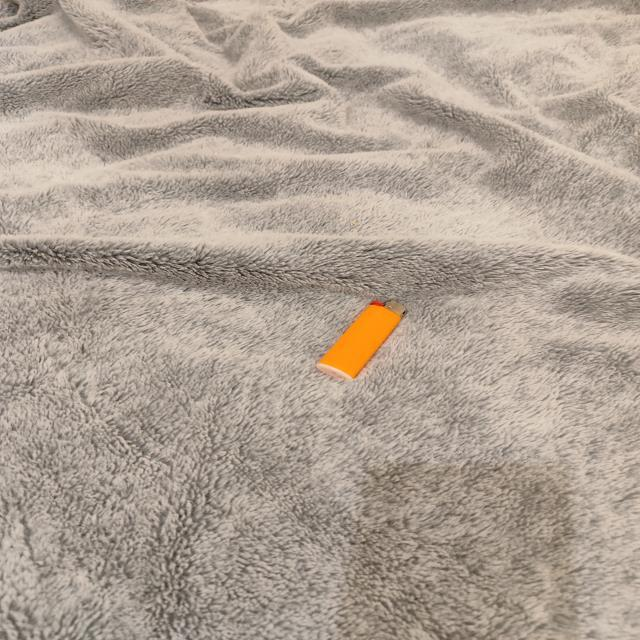lighter: (316, 301, 405, 379)
